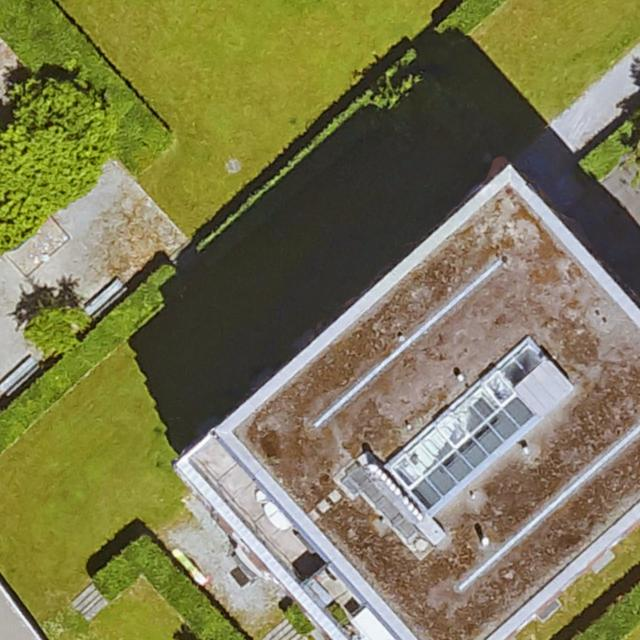tree: (1, 78, 107, 211), (24, 309, 92, 355)
